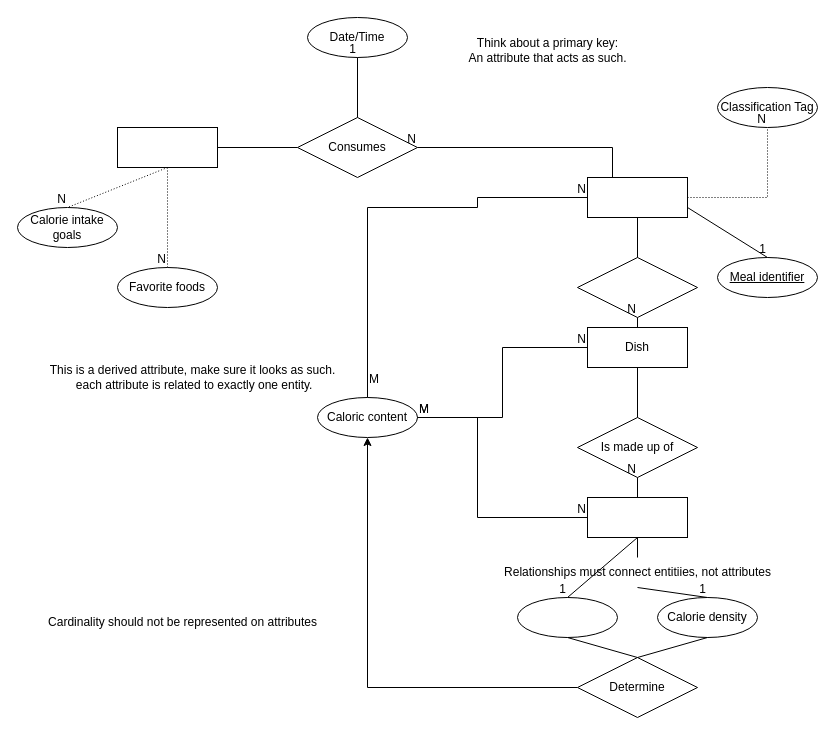
Image size: 835x735. Some labels were removed from this diagram. Here are the shapes that lost their labels. From the top down, the centre of each, then its label:
At point 167,147: "Person".
At point 637,197: "Meal".
At point 637,287: "Is made of".
At point 637,517: "Ingredient".
At point 567,617: "Weight".
